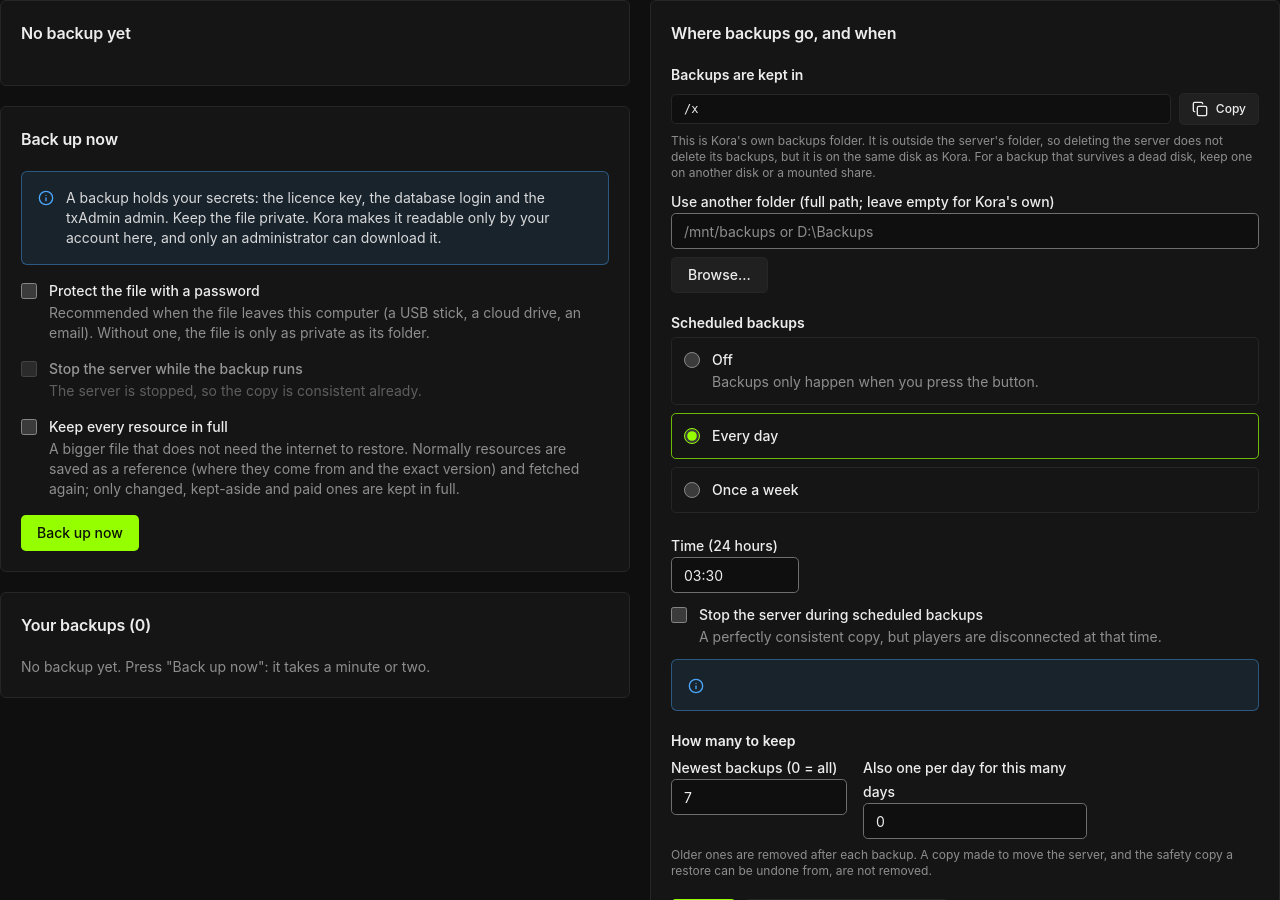
it: desktop app dialogs › Browse for the backups folder fills the folder box, and a cancelled dialog changes nothing
Click the button "Browse...".
click(719, 275)  # box [671, 257, 768, 293]
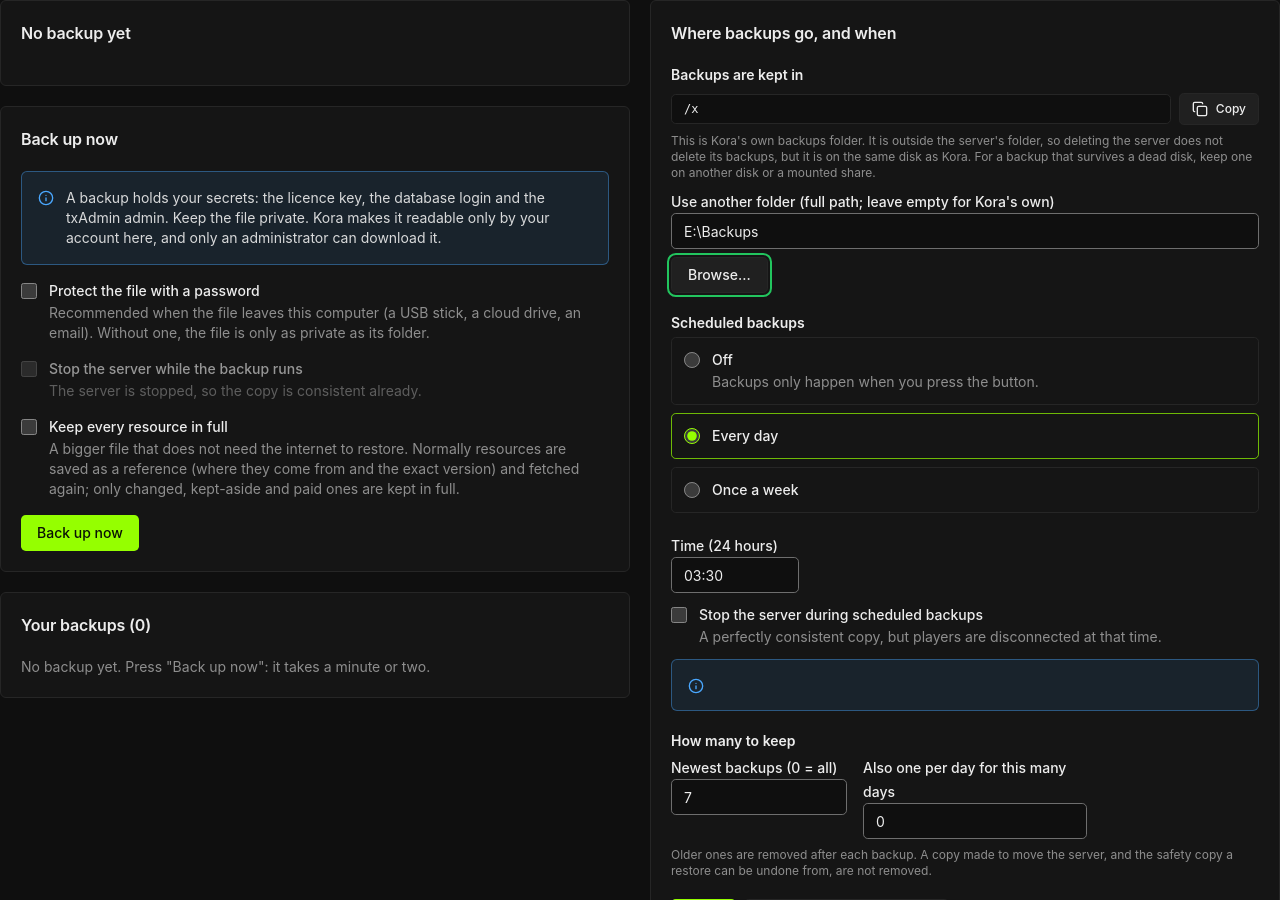
Check: the field labelled "Use another folder (full path; leave empty for Kora's own)" holds "E:\\Backups", box [671, 213, 1259, 249]
